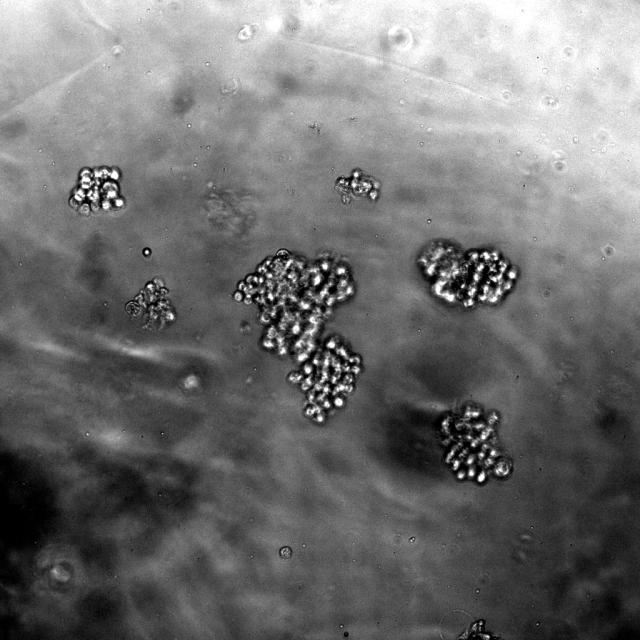organoid: (231, 249, 364, 426), (418, 239, 517, 307), (438, 403, 512, 485), (69, 167, 125, 215), (126, 277, 176, 329), (439, 609, 504, 639), (334, 168, 379, 204), (279, 545, 292, 559)
